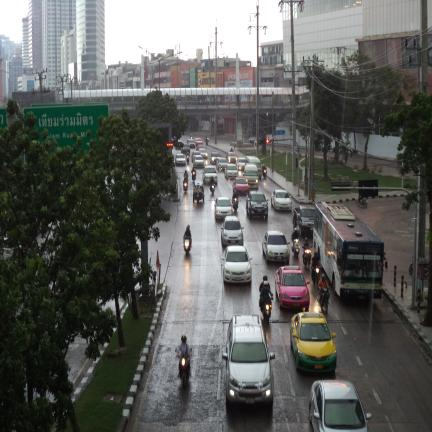bus: (314, 202, 384, 299)
car: (222, 315, 275, 408), (309, 380, 372, 432), (275, 265, 310, 312), (223, 245, 252, 283), (262, 231, 290, 265), (221, 216, 243, 246), (271, 190, 292, 210), (214, 197, 233, 219), (246, 156, 262, 180), (202, 165, 218, 184), (233, 176, 249, 194), (193, 181, 205, 203), (224, 163, 238, 178), (216, 157, 228, 171), (236, 157, 246, 171), (228, 246, 231, 248), (245, 168, 245, 170), (231, 247, 239, 247)
human: (177, 335, 191, 376), (259, 281, 273, 309), (318, 274, 328, 302), (183, 225, 192, 247), (259, 275, 268, 293), (311, 251, 320, 268), (291, 227, 300, 242), (302, 238, 309, 250), (232, 190, 238, 202), (210, 176, 215, 185), (184, 170, 188, 180), (178, 362, 180, 376), (180, 360, 181, 361)
motorbike: (317, 287, 330, 314), (179, 355, 189, 388), (261, 298, 272, 324), (311, 265, 321, 284), (303, 247, 311, 269), (292, 239, 300, 258), (184, 237, 191, 255), (232, 197, 238, 211), (183, 176, 188, 192), (191, 168, 196, 181), (262, 167, 267, 179), (210, 183, 215, 195)
pickup: (293, 205, 315, 239), (246, 191, 268, 220)
taxi: (291, 312, 337, 372), (275, 265, 310, 312), (264, 237, 266, 240), (285, 240, 286, 242)
van: (246, 156, 262, 179), (245, 163, 258, 189)
